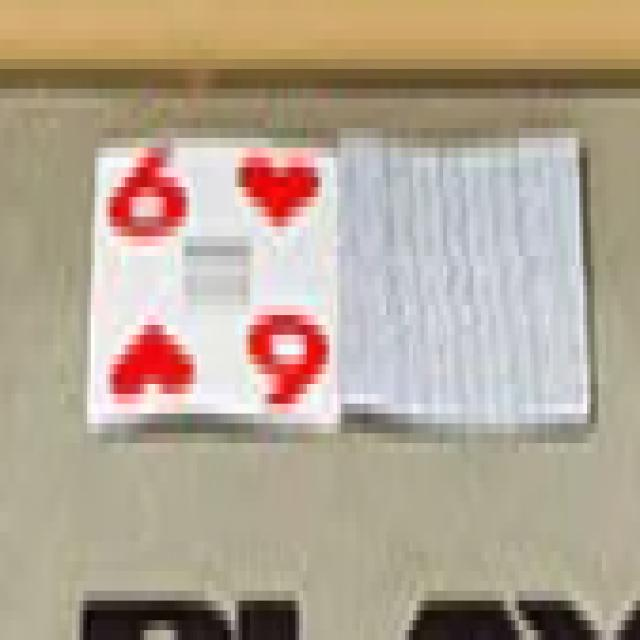Card-6: (89, 135, 337, 435)
